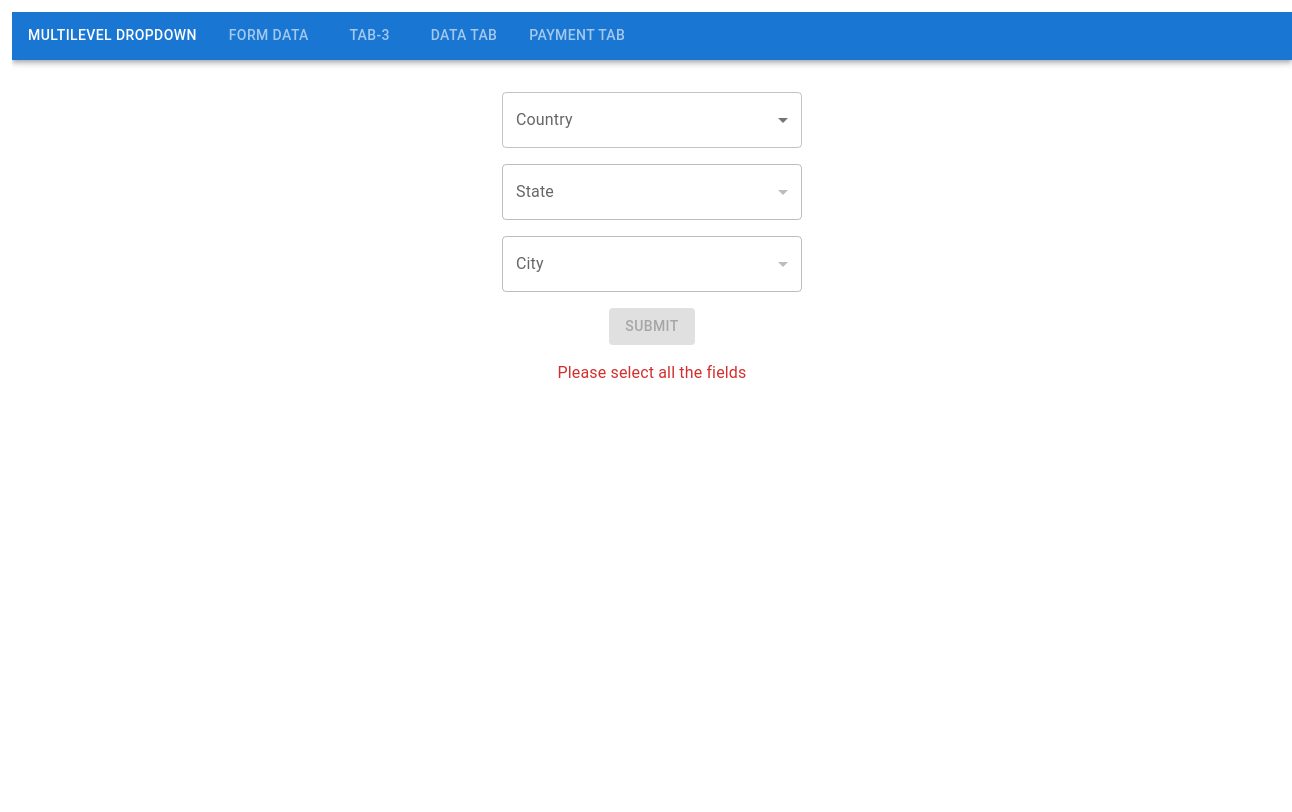
Scenario: should render DataTab when selectedTab is 3
Simulate selecting tab 3
Step 1. Click the tab "Data Tab" → (464, 36), box 415,12 -> 513,60
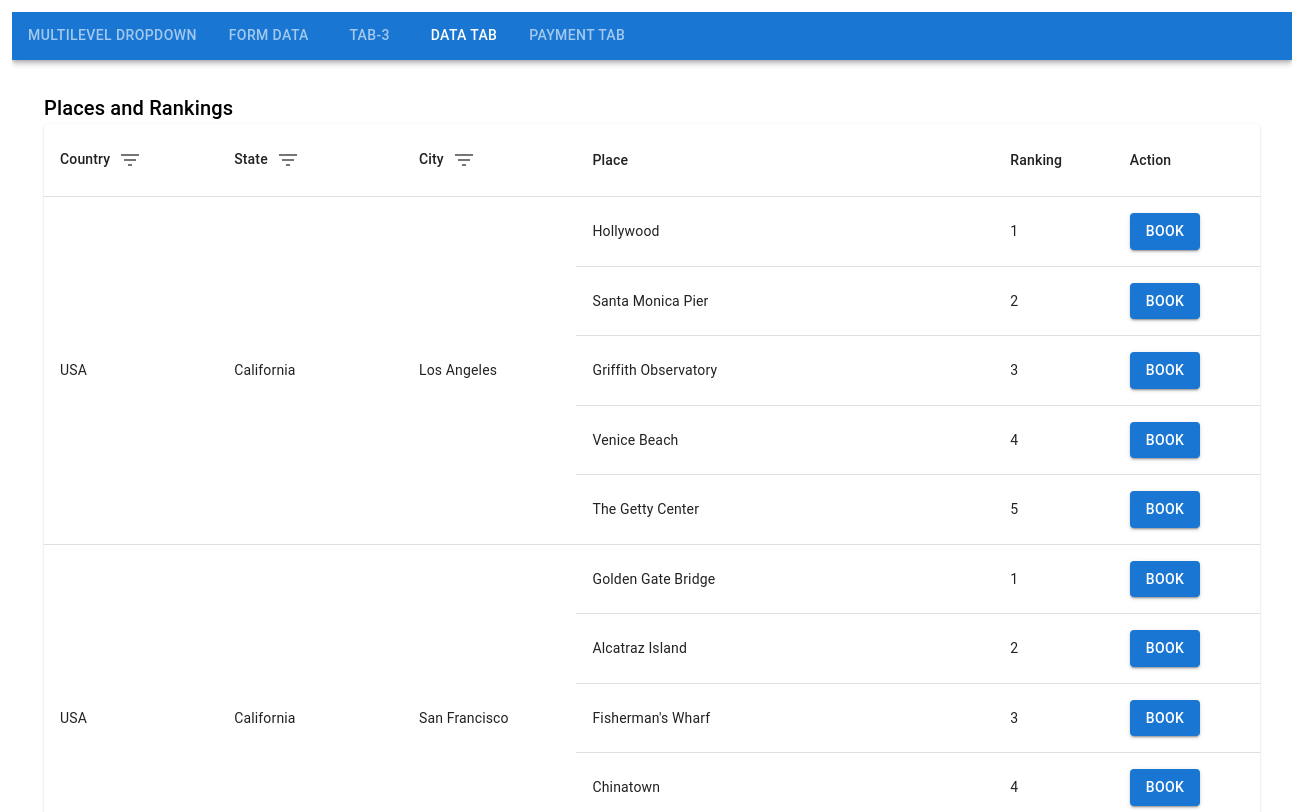
Expected: the heading "Places and Rankings" is shown, 44,96 -> 233,120
